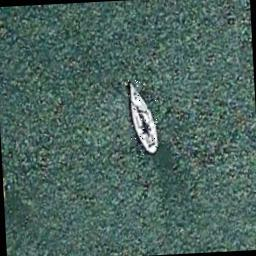boat: (126, 79, 158, 156)
